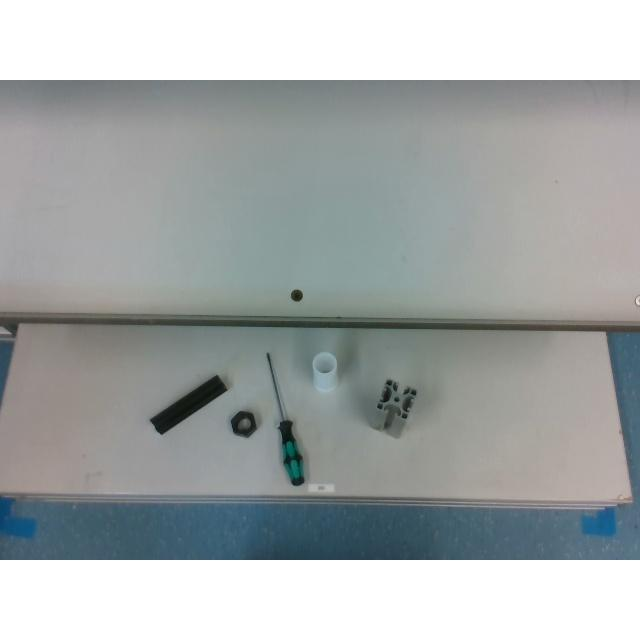F20_20_B: (150, 374, 227, 434)
M20: (230, 410, 258, 438)
S40_40_G: (368, 378, 417, 438)
Screwdriver: (266, 354, 304, 486)
Spacer: (312, 352, 336, 392)
